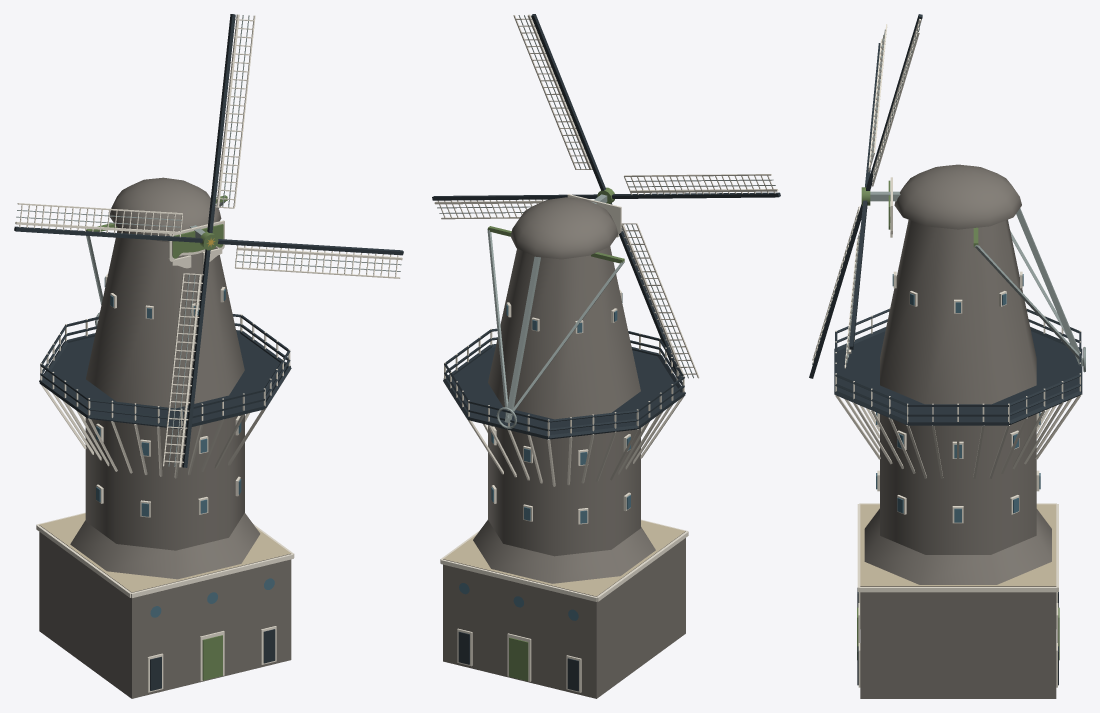
The model's file is de-gooyer.glb.
The picture shows the model from 3 angles, left to right: view 1: azimuth 30°, elevation 25°; view 2: azimuth 150°, elevation 25°; view 3: azimuth 270°, elevation 25°; orthographic projection. The views are drawn at different scales.
Parts seen in each view (by area): view 1: de-gooyer; view 2: de-gooyer; view 3: de-gooyer.
Boxes of the visible parts, x1=… form: de-gooyer: x1=14, y1=14, x2=403, y2=698; de-gooyer: x1=432, y1=14, x2=780, y2=698; de-gooyer: x1=809, y1=14, x2=1085, y2=698.
Size of the model in its own units: 25.77 by 41.6 by 15.61.
